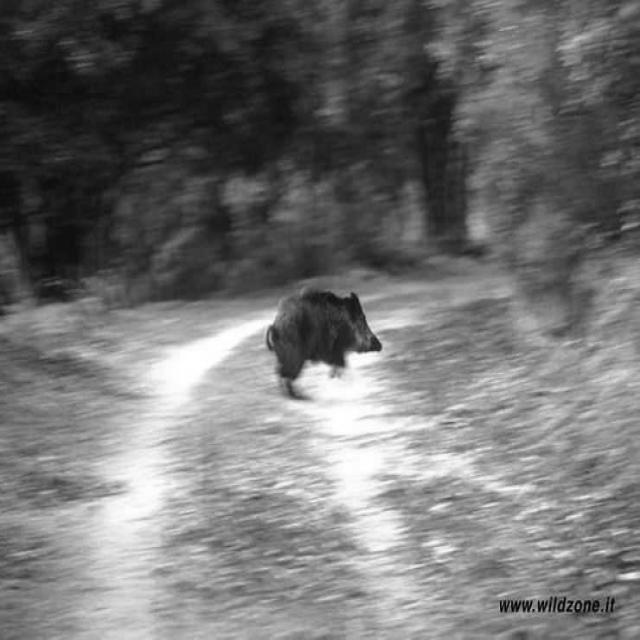boar: (266, 288, 382, 395)
